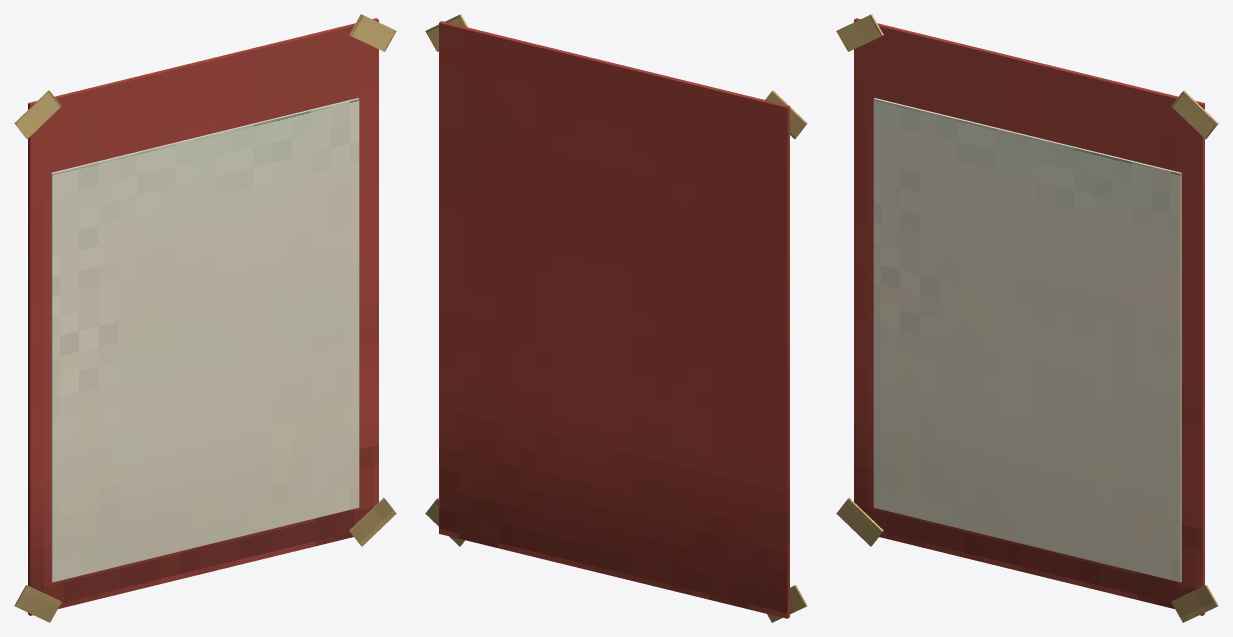
The model's file is poster_blank.glb.
3 renders of one model, left to right at view 1: azimuth 30°, elevation 25°; view 2: azimuth 150°, elevation 25°; view 3: azimuth 330°, elevation 25°, orthographic.
Parts seen in each view (by area): view 1: poster_blank; view 2: poster_blank; view 3: poster_blank.
Part boxes in pixels (x1,y1,x2,y2): poster_blank: (14, 14, 396, 622); poster_blank: (425, 14, 807, 622); poster_blank: (836, 14, 1218, 622).
Size of the model in its own units: 0.5464 by 0.7286 by 0.0095.
3 materials, 3 textured.
